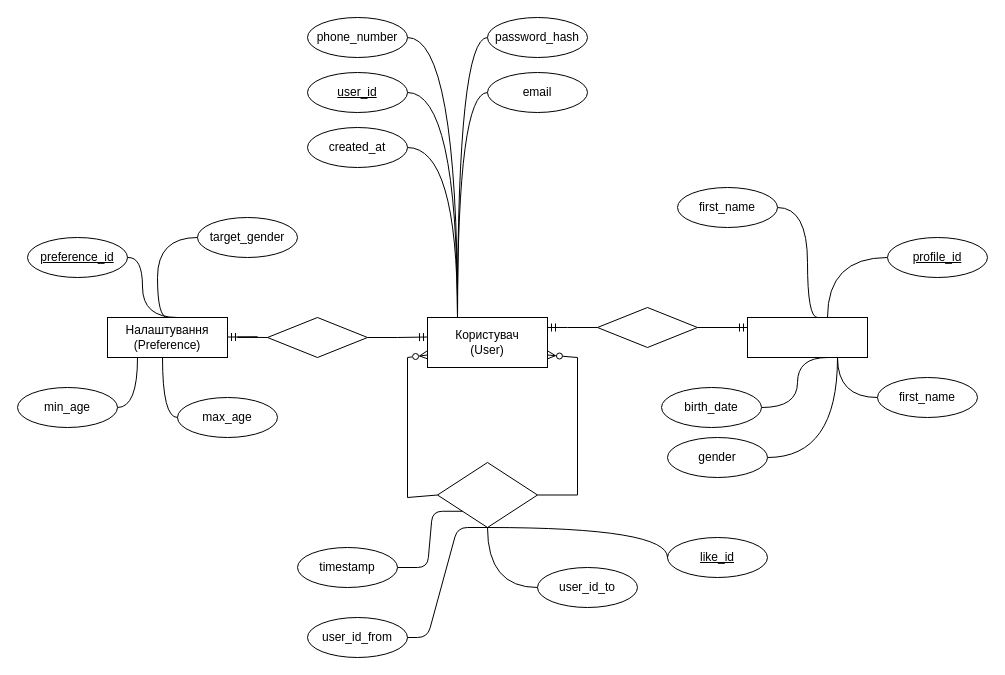
Image size: 1005x675. Some labels were removed from this diagram. The box of each missing label's shape, as (x1, y1, x2, y2) in pixels:
Likes: (436, 462, 538, 528)
Встановлює: (266, 316, 368, 358)
Має: (596, 306, 698, 348)
Профіль (Profile): (746, 316, 868, 358)
